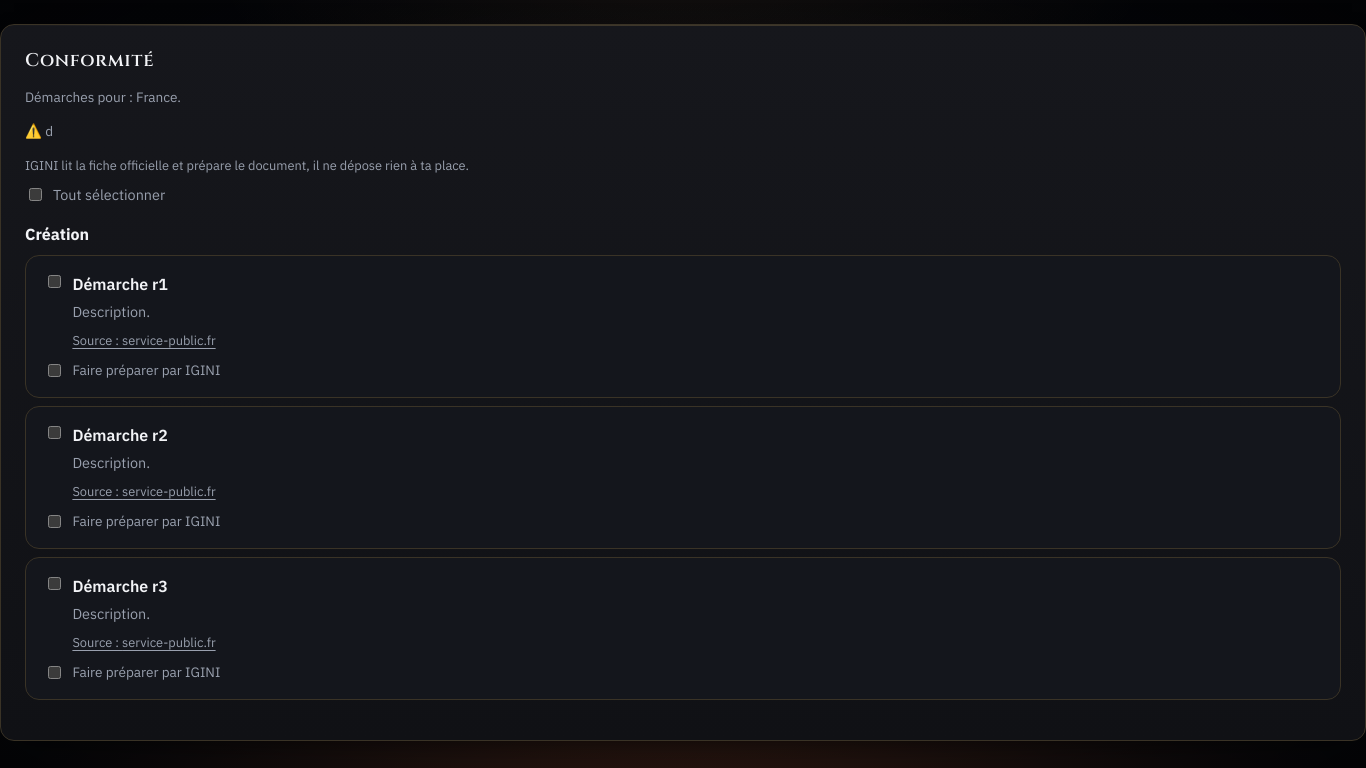
Test: ComplianceSection — IGINI prépare les démarches › Connexion perdue : le lot s arrête, rien n est marqué en échec, les cases restent cochées
The width and height of the screenshot is (1366, 768).
Expected: the text "Démarche r1" is shown, [72, 274, 168, 294]
Click the checkbox named "Faire faire : Démarche r1": [55, 370] box [48, 364, 61, 377]
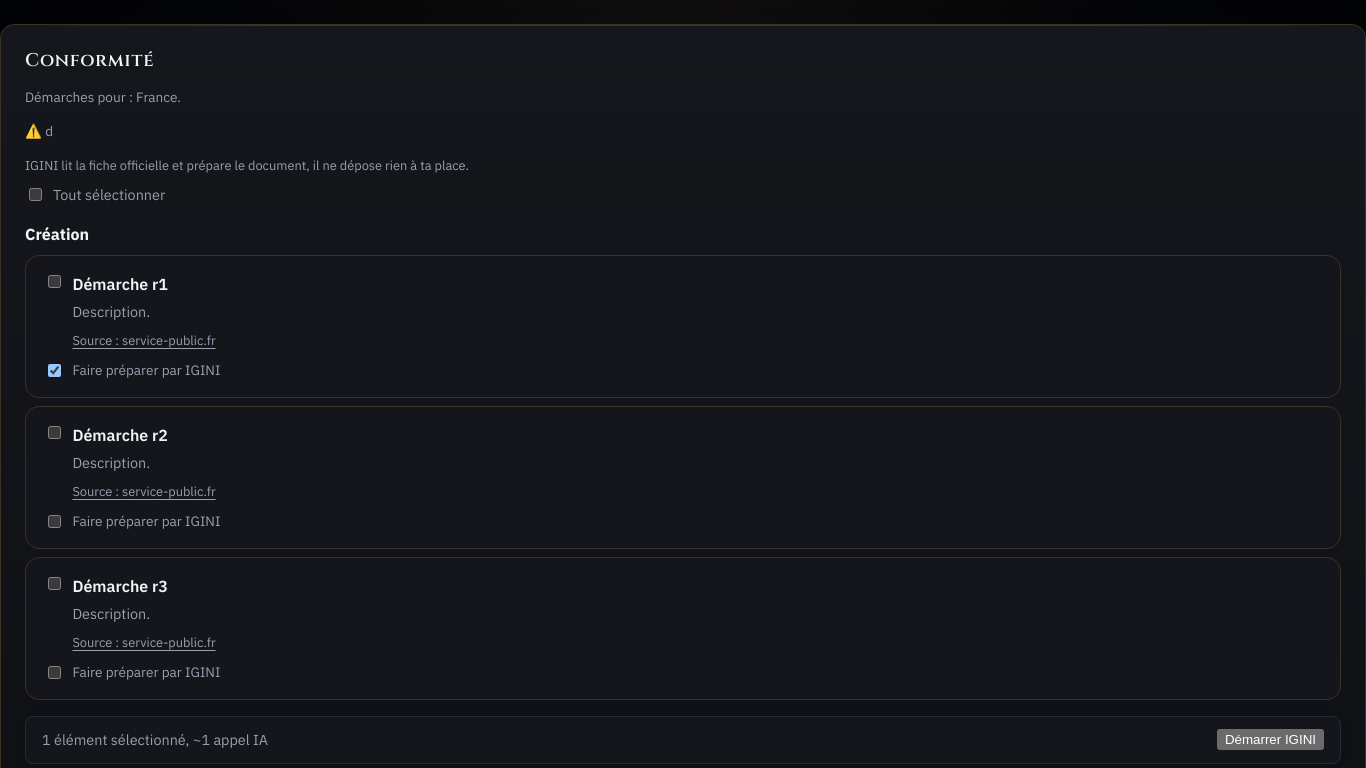
Click the checkbox named "Faire faire : Démarche r2": [55, 521] box [48, 515, 61, 528]
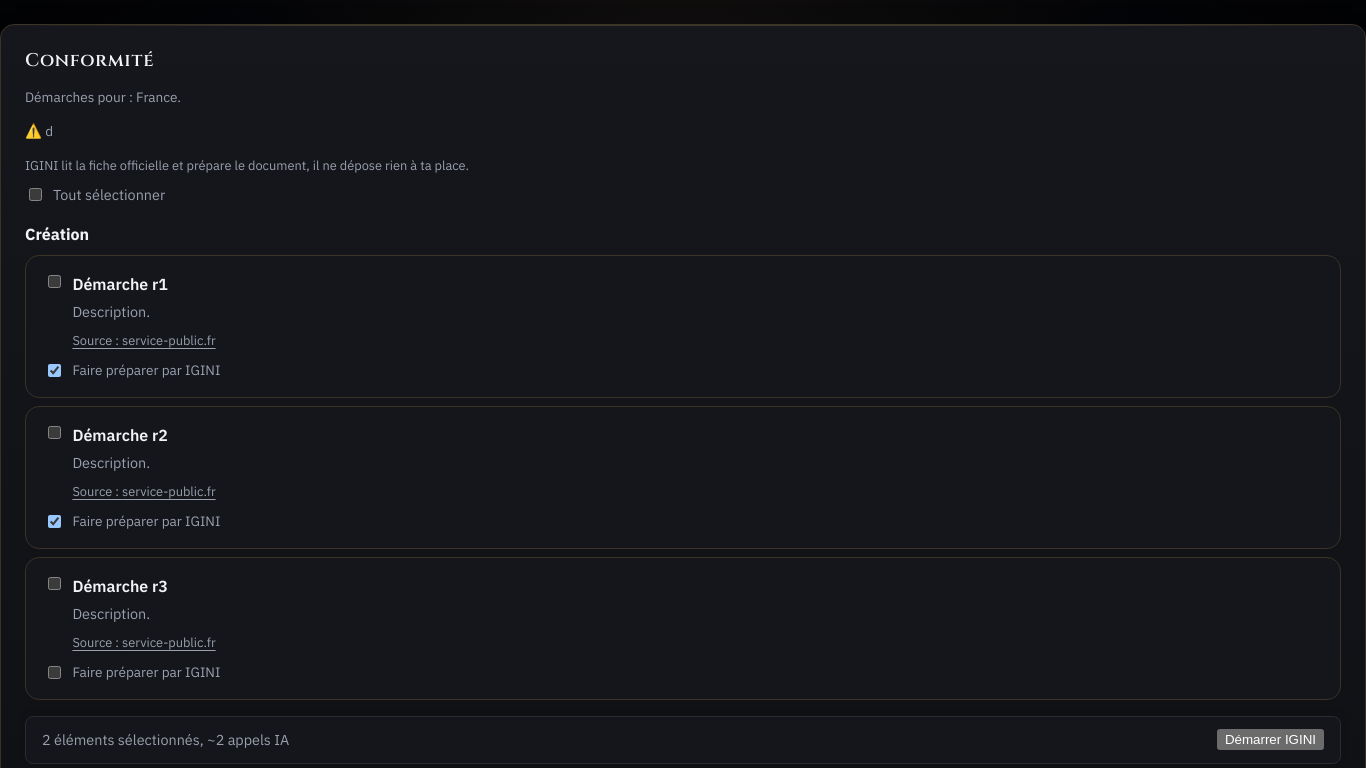
Click the checkbox named "Faire faire : Démarche r3": [55, 672] box [48, 666, 61, 679]
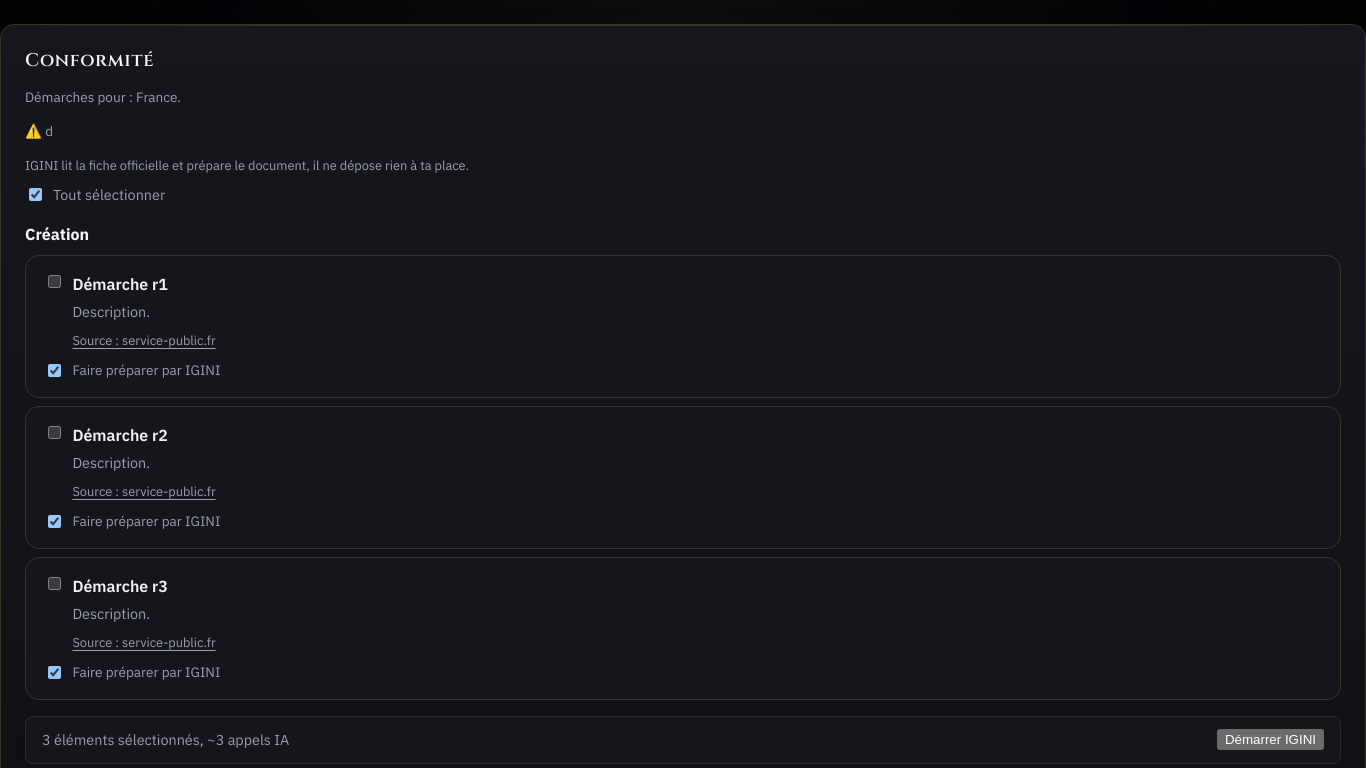
Click the button "Démarrer IGINI": [1270, 740] box [1217, 729, 1324, 750]
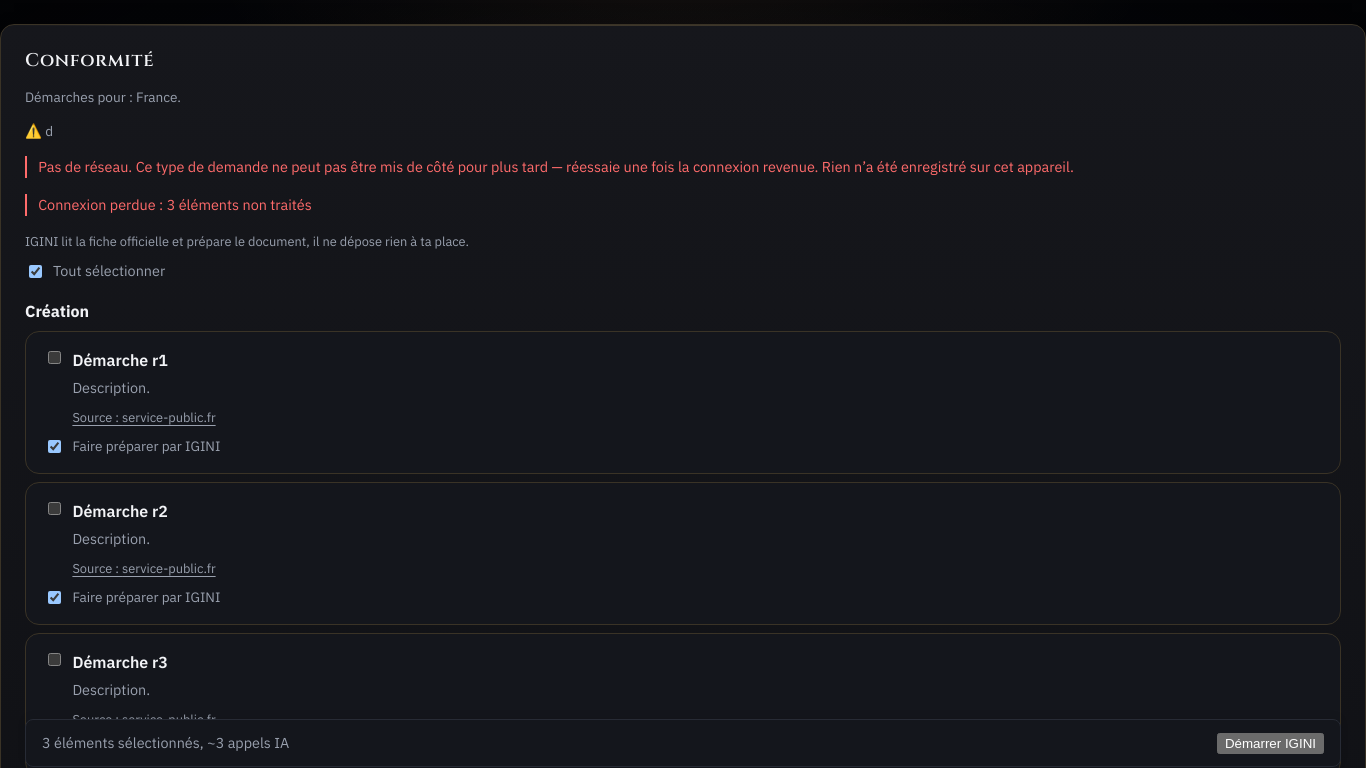
Now the checkbox named "Faire faire : Démarche r1" is checked, box [48, 440, 61, 453]
Now the checkbox named "Faire faire : Démarche r2" is checked, box [48, 591, 61, 604]
Now the text "Connexion perdue : 3 éléments non traités" is shown, box [25, 194, 1341, 216]
